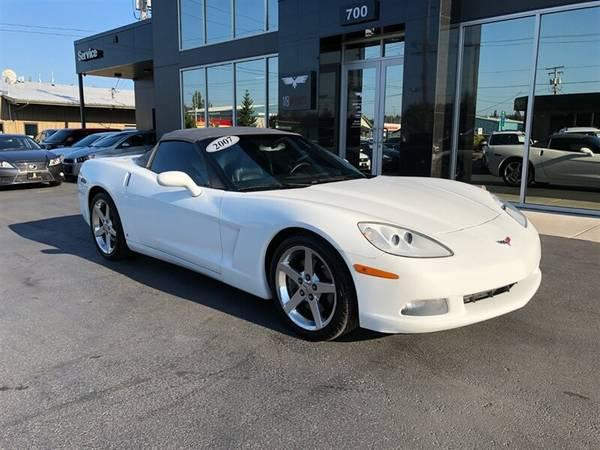Front_Bumper: (340, 210, 544, 331)
Front_Fender: (222, 192, 387, 301)
Front_Right_Door: (121, 169, 227, 278)
Front_Right_Window: (140, 139, 200, 186)
Front_Windshield: (197, 134, 367, 192)
Hood: (249, 175, 501, 235)
Left_Headlight: (494, 196, 530, 229)
Rear_Fender: (77, 159, 124, 223)
Right_Headlight: (358, 222, 453, 260)
Roof: (124, 125, 286, 191)
Wheel: (272, 238, 352, 337), (89, 197, 124, 258)
